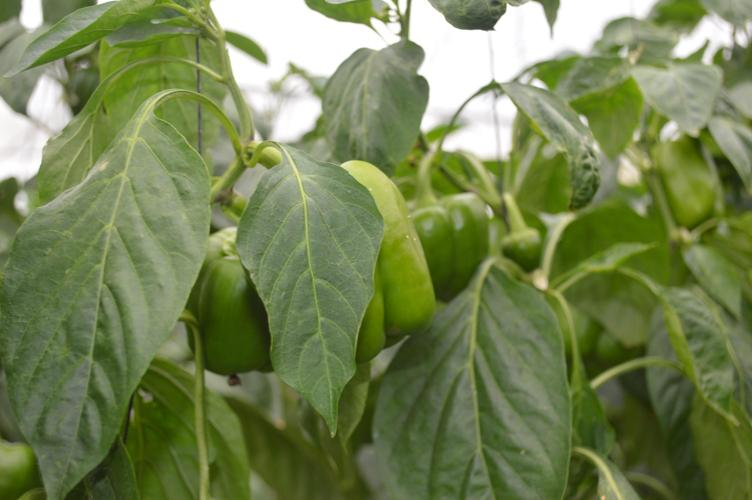BellPepper: (332, 157, 433, 349), (192, 229, 276, 379), (401, 192, 489, 298)
